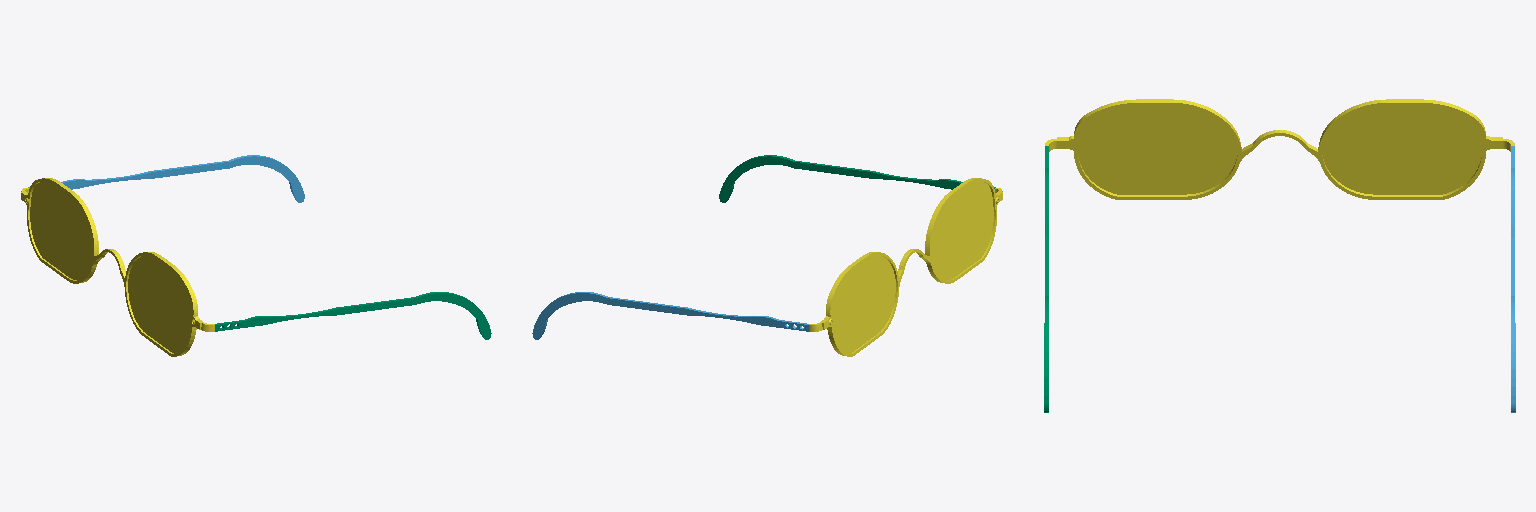
The robot description file, URDF, robot "partnet_eb6176d02ba79f0640010f30b5cd77ee":
<?xml version="1.0" ?>
<robot name="partnet_eb6176d02ba79f0640010f30b5cd77ee">
	<link name="base"/>
	<link name="link_0">
		<visual name="leg-1">
			<origin xyz="0.5642080036963157 -0.047305013263475026 -0.1537381743600741"/>
			<geometry>
				<mesh filename="textured_objs/original-24.obj"/>
			</geometry>
		</visual>
		<visual name="leg-1">
			<origin xyz="0.5642080036963157 -0.047305013263475026 -0.1537381743600741"/>
			<geometry>
				<mesh filename="textured_objs/original-5.obj"/>
			</geometry>
		</visual>
		<visual name="leg-1">
			<origin xyz="0.5642080036963157 -0.047305013263475026 -0.1537381743600741"/>
			<geometry>
				<mesh filename="textured_objs/original-19.obj"/>
			</geometry>
		</visual>
		<collision>
			<origin xyz="0.5642080036963157 -0.047305013263475026 -0.1537381743600741"/>
			<geometry>
				<mesh filename="textured_objs/original-24.obj"/>
			</geometry>
		</collision>
		<collision>
			<origin xyz="0.5642080036963157 -0.047305013263475026 -0.1537381743600741"/>
			<geometry>
				<mesh filename="textured_objs/original-5.obj"/>
			</geometry>
		</collision>
		<collision>
			<origin xyz="0.5642080036963157 -0.047305013263475026 -0.1537381743600741"/>
			<geometry>
				<mesh filename="textured_objs/original-19.obj"/>
			</geometry>
		</collision>
	</link>
	<joint name="joint_0" type="revolute">
		<origin xyz="-0.5642080036963157 0.047305013263475026 0.1537381743600741"/>
		<axis xyz="0 -0.994521960782983 0.10452784088639135"/>
		<child link="link_0"/>
		<parent link="link_2"/>
		<limit lower="0.0" upper="1.017876019763093"/>
	</joint>
	<link name="link_1">
		<visual name="leg-2">
			<origin xyz="-0.5555728762152403 -0.04763396762202676 -0.15686920892092387"/>
			<geometry>
				<mesh filename="textured_objs/original-10.obj"/>
			</geometry>
		</visual>
		<visual name="leg-2">
			<origin xyz="-0.5555728762152403 -0.04763396762202676 -0.15686920892092387"/>
			<geometry>
				<mesh filename="textured_objs/original-21.obj"/>
			</geometry>
		</visual>
		<visual name="leg-2">
			<origin xyz="-0.5555728762152403 -0.04763396762202676 -0.15686920892092387"/>
			<geometry>
				<mesh filename="textured_objs/original-23.obj"/>
			</geometry>
		</visual>
		<collision>
			<origin xyz="-0.5555728762152403 -0.04763396762202676 -0.15686920892092387"/>
			<geometry>
				<mesh filename="textured_objs/original-10.obj"/>
			</geometry>
		</collision>
		<collision>
			<origin xyz="-0.5555728762152403 -0.04763396762202676 -0.15686920892092387"/>
			<geometry>
				<mesh filename="textured_objs/original-21.obj"/>
			</geometry>
		</collision>
		<collision>
			<origin xyz="-0.5555728762152403 -0.04763396762202676 -0.15686920892092387"/>
			<geometry>
				<mesh filename="textured_objs/original-23.obj"/>
			</geometry>
		</collision>
	</link>
	<joint name="joint_1" type="revolute">
		<origin xyz="0.5555728762152403 0.04763396762202676 0.15686920892092387"/>
		<axis xyz="0 1 0"/>
		<child link="link_1"/>
		<parent link="link_2"/>
		<limit lower="0.0" upper="1.3634512116579702"/>
	</joint>
	<link name="link_2">
		<visual name="base_body-3">
			<origin xyz="0 0 0"/>
			<geometry>
				<mesh filename="textured_objs/original-22.obj"/>
			</geometry>
		</visual>
		<visual name="base_body-3">
			<origin xyz="0 0 0"/>
			<geometry>
				<mesh filename="textured_objs/original-4.obj"/>
			</geometry>
		</visual>
		<visual name="base_body-3">
			<origin xyz="0 0 0"/>
			<geometry>
				<mesh filename="textured_objs/original-3.obj"/>
			</geometry>
		</visual>
		<visual name="base_body-3">
			<origin xyz="0 0 0"/>
			<geometry>
				<mesh filename="textured_objs/original-2.obj"/>
			</geometry>
		</visual>
		<visual name="base_body-3">
			<origin xyz="0 0 0"/>
			<geometry>
				<mesh filename="textured_objs/original-16.obj"/>
			</geometry>
		</visual>
		<visual name="base_body-3">
			<origin xyz="0 0 0"/>
			<geometry>
				<mesh filename="textured_objs/original-8.obj"/>
			</geometry>
		</visual>
		<visual name="base_body-3">
			<origin xyz="0 0 0"/>
			<geometry>
				<mesh filename="textured_objs/original-13.obj"/>
			</geometry>
		</visual>
		<visual name="base_body-3">
			<origin xyz="0 0 0"/>
			<geometry>
				<mesh filename="textured_objs/original-9.obj"/>
			</geometry>
		</visual>
		<visual name="base_body-3">
			<origin xyz="0 0 0"/>
			<geometry>
				<mesh filename="textured_objs/original-6.obj"/>
			</geometry>
		</visual>
		<visual name="base_body-3">
			<origin xyz="0 0 0"/>
			<geometry>
				<mesh filename="textured_objs/original-15.obj"/>
			</geometry>
		</visual>
		<visual name="base_body-3">
			<origin xyz="0 0 0"/>
			<geometry>
				<mesh filename="textured_objs/original-11.obj"/>
			</geometry>
		</visual>
		<visual name="base_body-3">
			<origin xyz="0 0 0"/>
			<geometry>
				<mesh filename="textured_objs/original-18.obj"/>
			</geometry>
		</visual>
		<visual name="base_body-3">
			<origin xyz="0 0 0"/>
			<geometry>
				<mesh filename="textured_objs/original-17.obj"/>
			</geometry>
		</visual>
		<visual name="base_body-3">
			<origin xyz="0 0 0"/>
			<geometry>
				<mesh filename="textured_objs/original-12.obj"/>
			</geometry>
		</visual>
		<visual name="base_body-3">
			<origin xyz="0 0 0"/>
			<geometry>
				<mesh filename="textured_objs/original-20.obj"/>
			</geometry>
		</visual>
		<visual name="base_body-3">
			<origin xyz="0 0 0"/>
			<geometry>
				<mesh filename="textured_objs/original-7.obj"/>
			</geometry>
		</visual>
		<visual name="base_body-3">
			<origin xyz="0 0 0"/>
			<geometry>
				<mesh filename="textured_objs/original-1.obj"/>
			</geometry>
		</visual>
		<visual name="base_body-3">
			<origin xyz="0 0 0"/>
			<geometry>
				<mesh filename="textured_objs/original-14.obj"/>
			</geometry>
		</visual>
		<collision>
			<origin xyz="0 0 0"/>
			<geometry>
				<mesh filename="textured_objs/original-22.obj"/>
			</geometry>
		</collision>
		<collision>
			<origin xyz="0 0 0"/>
			<geometry>
				<mesh filename="textured_objs/original-4.obj"/>
			</geometry>
		</collision>
		<collision>
			<origin xyz="0 0 0"/>
			<geometry>
				<mesh filename="textured_objs/original-3.obj"/>
			</geometry>
		</collision>
		<collision>
			<origin xyz="0 0 0"/>
			<geometry>
				<mesh filename="textured_objs/original-2.obj"/>
			</geometry>
		</collision>
		<collision>
			<origin xyz="0 0 0"/>
			<geometry>
				<mesh filename="textured_objs/original-16.obj"/>
			</geometry>
		</collision>
		<collision>
			<origin xyz="0 0 0"/>
			<geometry>
				<mesh filename="textured_objs/original-8.obj"/>
			</geometry>
		</collision>
		<collision>
			<origin xyz="0 0 0"/>
			<geometry>
				<mesh filename="textured_objs/original-13.obj"/>
			</geometry>
		</collision>
		<collision>
			<origin xyz="0 0 0"/>
			<geometry>
				<mesh filename="textured_objs/original-9.obj"/>
			</geometry>
		</collision>
		<collision>
			<origin xyz="0 0 0"/>
			<geometry>
				<mesh filename="textured_objs/original-6.obj"/>
			</geometry>
		</collision>
		<collision>
			<origin xyz="0 0 0"/>
			<geometry>
				<mesh filename="textured_objs/original-15.obj"/>
			</geometry>
		</collision>
		<collision>
			<origin xyz="0 0 0"/>
			<geometry>
				<mesh filename="textured_objs/original-11.obj"/>
			</geometry>
		</collision>
		<collision>
			<origin xyz="0 0 0"/>
			<geometry>
				<mesh filename="textured_objs/original-18.obj"/>
			</geometry>
		</collision>
		<collision>
			<origin xyz="0 0 0"/>
			<geometry>
				<mesh filename="textured_objs/original-17.obj"/>
			</geometry>
		</collision>
		<collision>
			<origin xyz="0 0 0"/>
			<geometry>
				<mesh filename="textured_objs/original-12.obj"/>
			</geometry>
		</collision>
		<collision>
			<origin xyz="0 0 0"/>
			<geometry>
				<mesh filename="textured_objs/original-20.obj"/>
			</geometry>
		</collision>
		<collision>
			<origin xyz="0 0 0"/>
			<geometry>
				<mesh filename="textured_objs/original-7.obj"/>
			</geometry>
		</collision>
		<collision>
			<origin xyz="0 0 0"/>
			<geometry>
				<mesh filename="textured_objs/original-1.obj"/>
			</geometry>
		</collision>
		<collision>
			<origin xyz="0 0 0"/>
			<geometry>
				<mesh filename="textured_objs/original-14.obj"/>
			</geometry>
		</collision>
	</link>
	<joint name="joint_2" type="fixed">
		<origin rpy="1.570796326794897 0 -1.570796326794897" xyz="0 0 0"/>
		<child link="link_2"/>
		<parent link="base"/>
	</joint>
</robot>

--- Facts derived from the render (not from the file) ---
3 views of the same robot in one strip: view 1: azimuth 30°, elevation 25°; view 2: azimuth 150°, elevation 25°; view 3: azimuth 270°, elevation 25° (orthographic).
Model partnet_eb6176d02ba79f0640010f30b5cd77ee with 4 links and 3 joints (2 revolute, 1 fixed), rooted at base, posed all joints at 0.
Visible links, largest first — view 1: link_2, link_1, link_0; view 2: link_2, link_0, link_1; view 3: link_2, link_0, link_1.
Boxes of the visible links, x1,y1,x2,y2 form: link_2: (21, 178, 214, 356); link_1: (215, 292, 491, 339); link_0: (28, 155, 304, 202); link_2: (809, 178, 1002, 356); link_0: (532, 292, 808, 339); link_1: (719, 155, 995, 202); link_2: (1045, 99, 1514, 199); link_0: (1511, 146, 1515, 412); link_1: (1044, 146, 1048, 412).
Bounding box of the posed robot: 1.01 × 1.13 × 0.378 m (x, y, z).
24 mesh visuals loaded from 24 distinct referenced files (24 OBJ).